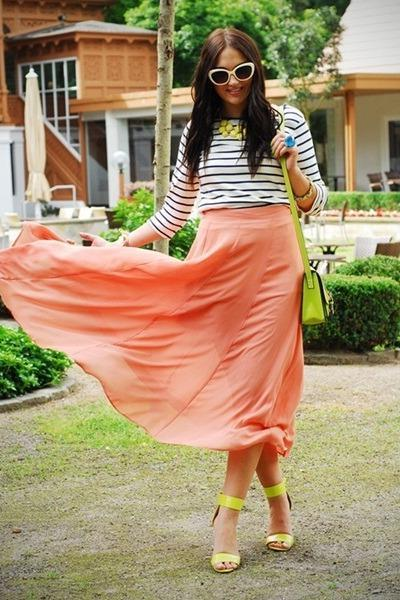long sleeve shirt: (143, 99, 333, 241)
skirt: (0, 202, 317, 445)
